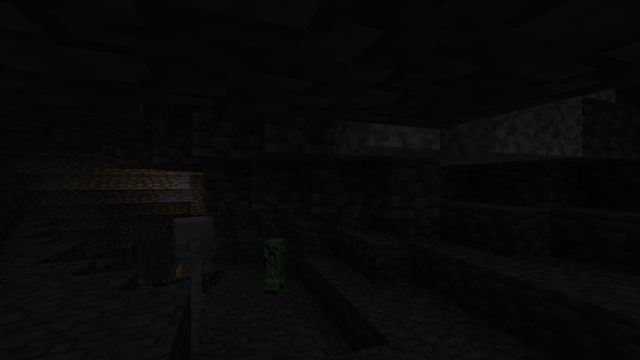creepers: (264, 235, 285, 294)
squelettes: (166, 216, 213, 357)
